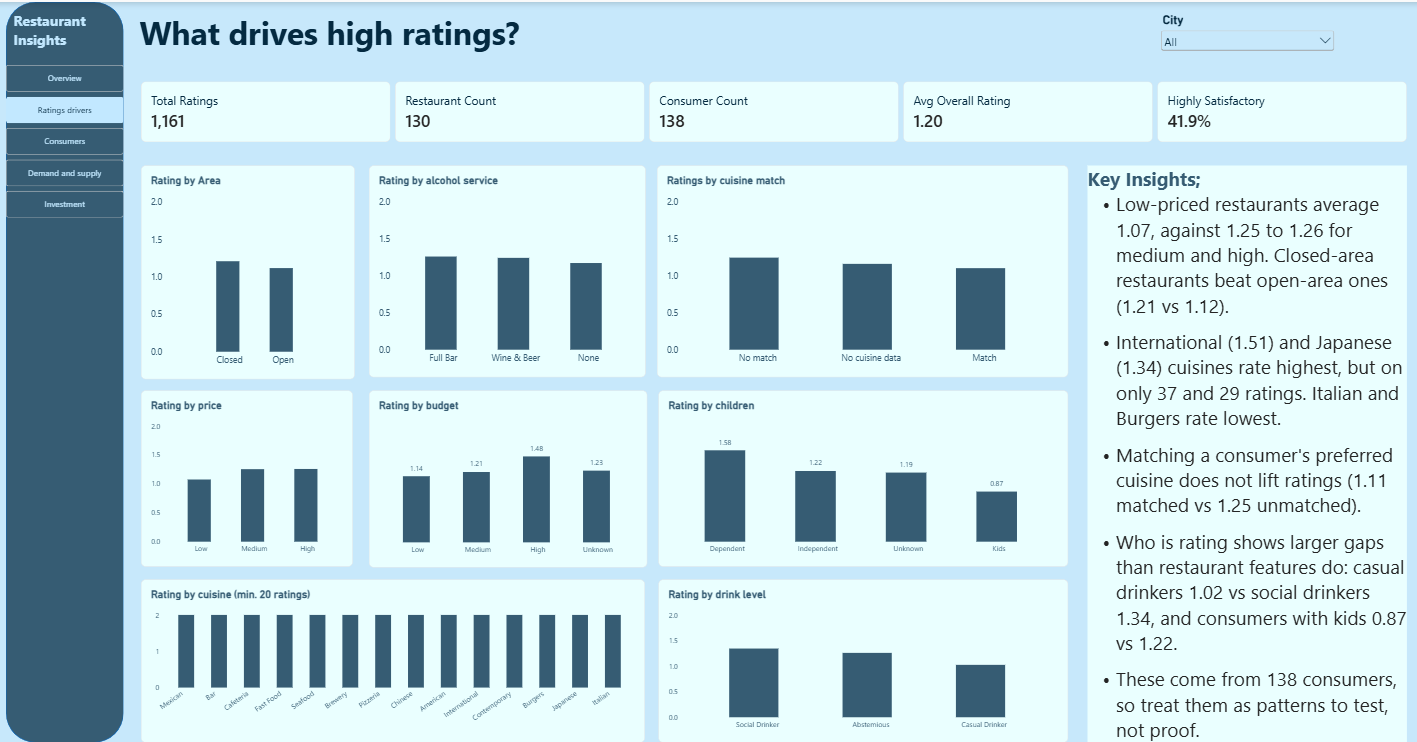

The dashboard page shown, as its layout file describes it:
{"tool":"powerbi","page":{"name":"Ratings drivers","canvas":[2391,1270],"ordinal":1},"visuals":[{"type":"shape","box":[11.3,0,198,1247.4],"z":0},{"type":"textbox","box":[22.9,16.3,173.3,89.9],"z":1000},{"type":"pageNavigator","box":[9.5,106.5,198.8,260.3],"z":2000},{"type":"clusteredColumnChart","title":"Rating by price","fields":{"Y":["Measures (2).Avg Overall Rating"],"Category":["Restaurants.Price"]},"box":[237.6,653.4,356.4,297],"z":3000},{"type":"clusteredColumnChart","title":"Rating by Area","fields":{"Y":["Measures (2).Avg Overall Rating"],"Category":["Restaurants.Area"]},"box":[236.6,274.3,360,360],"z":4000},{"type":"clusteredColumnChart","title":"Rating by alcohol service","fields":{"Y":["Measures (2).Avg Overall Rating"],"Category":["Restaurants.Alcohol_Service"]},"box":[620.6,274.3,466.3,356.6],"z":5000},{"type":"clusteredColumnChart","title":"Rating by cuisine (min. 20 ratings)","fields":{"Y":["Measures (2).Ratings by Cuisine"],"Category":["RestaurantCuisines.Cuisine"]},"box":[237.6,973,848.5,274.4],"z":6000},{"type":"clusteredColumnChart","title":"Ratings by cuisine match","fields":{"Category":["Ratings.Cuisine_Match"],"Y":["Measures (2).Avg Overall Rating"]},"box":[1107.5,274.3,692.6,356.6],"z":7000},{"type":"clusteredColumnChart","title":"Rating by drink level","fields":{"Y":["Measures (2).Avg Overall Rating"],"Category":["Consumers.Drink_Level"]},"box":[1108.8,973,690.2,274.4],"z":8000},{"type":"clusteredColumnChart","title":"Rating by budget","fields":{"Category":["Consumers.Budget"],"Y":["Measures (2).Avg Overall Rating"]},"box":[620.6,653.2,468.9,298.1],"z":9000},{"type":"clusteredColumnChart","title":"Rating by children","fields":{"Y":["Measures (2).Avg Overall Rating"],"Category":["Consumers.Children"]},"box":[1108.8,653.4,690.2,297],"z":10000},{"type":"textbox","box":[1831,274.3,538.3,973.8],"z":11000},{"type":"cardVisual","fields":{"Data":["Measures (2).Total Ratings","Measures (2).Restaurant Count","Measures (2).Consumer Count","Measures (2).Avg Overall Rating","Measures (2).% Highly Satisfactory"]},"box":[236.6,133.7,2136.1,102.9],"z":12000},{"type":"textbox","box":[235.6,16.2,2152.8,117.8],"z":13000},{"type":"slicer","fields":{"Values":["Restaurants.City"]},"box":[1951,17.1,301.7,85.7],"z":14000}]}

Visuals, with their boxes on the page's 2391x1270 design canvas (x1, y1, x2, y2). These are canvas units, not pixel positions in the 1417x742 screenshot, which may show the page scaled, cropped or inside an application window:
shape: (11,0,209,1247)
textbox: (23,16,196,106)
pageNavigator: (10,106,208,367)
"Rating by price" clusteredColumnChart: (238,653,594,950)
"Rating by Area" clusteredColumnChart: (237,274,597,634)
"Rating by alcohol service" clusteredColumnChart: (621,274,1087,631)
"Rating by cuisine (min. 20 ratings)" clusteredColumnChart: (238,973,1086,1247)
"Ratings by cuisine match" clusteredColumnChart: (1108,274,1800,631)
"Rating by drink level" clusteredColumnChart: (1109,973,1799,1247)
"Rating by budget" clusteredColumnChart: (621,653,1090,951)
"Rating by children" clusteredColumnChart: (1109,653,1799,950)
textbox: (1831,274,2369,1248)
cardVisual - Measures (2).Total Ratings x Measures (2).Restaurant Count: (237,134,2373,237)
textbox: (236,16,2388,134)
slicer - Restaurants.City: (1951,17,2253,103)
